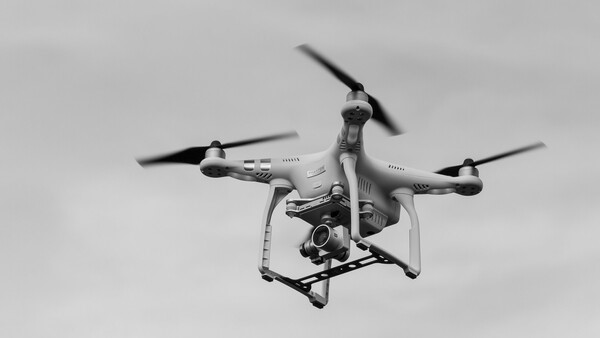drone: (134, 42, 549, 311)
